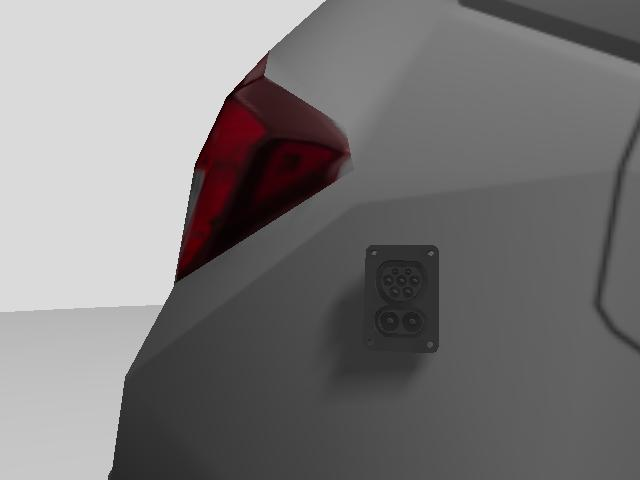EV-socket: (362, 240, 444, 357)
